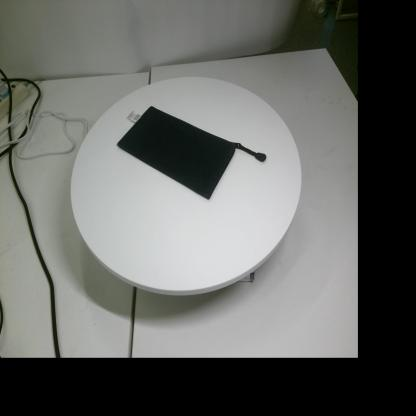Stationery: (117, 106, 266, 199)
